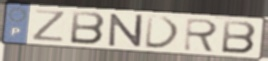B: (220, 19, 259, 56), (69, 10, 107, 47)
D: (144, 14, 183, 50)
N: (108, 12, 145, 48)
R: (181, 17, 221, 54)
Z: (30, 8, 68, 43)
